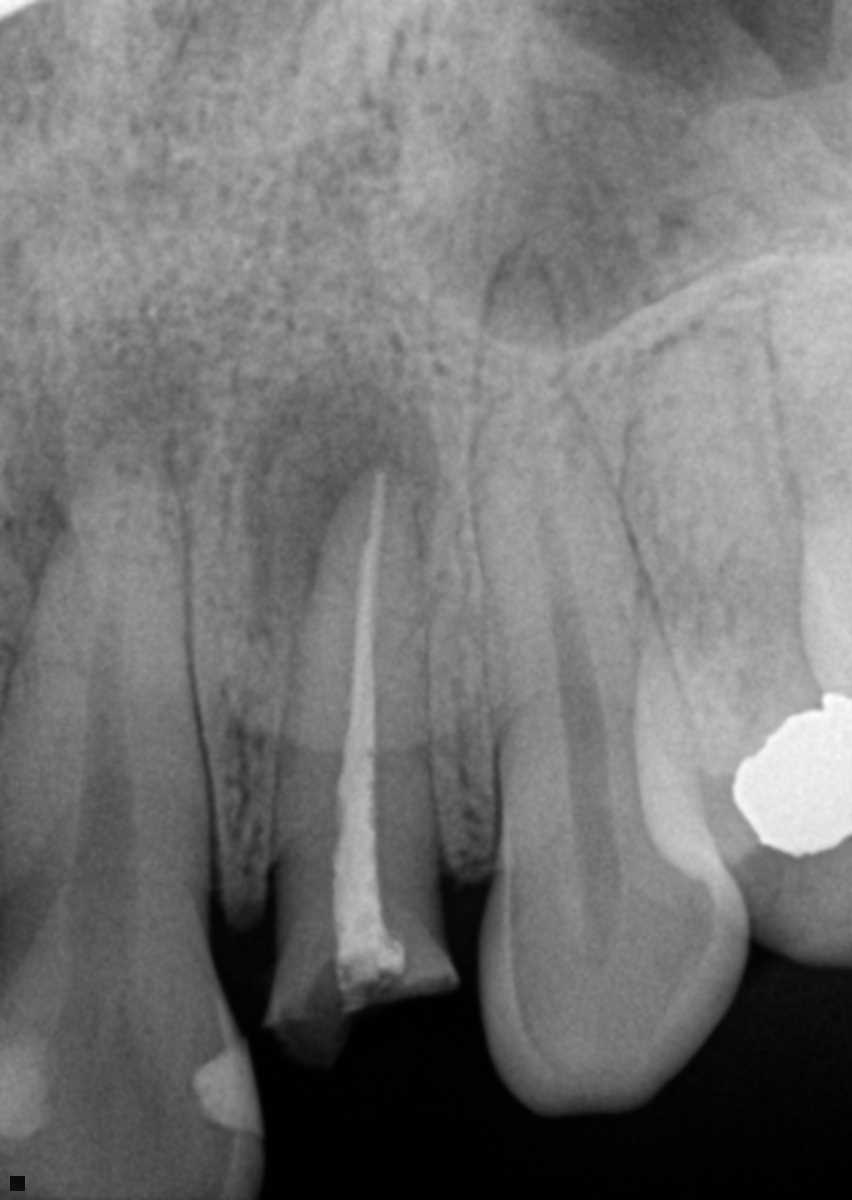Apical Lesion: (241, 364, 447, 630), (52, 331, 206, 469)
Main Canal: (523, 371, 619, 851), (64, 448, 146, 904)
Main Root: (470, 264, 712, 859), (0, 411, 214, 910), (628, 329, 813, 771), (270, 469, 447, 915), (768, 255, 852, 699)
Root Canal Filling: (337, 476, 385, 897)
